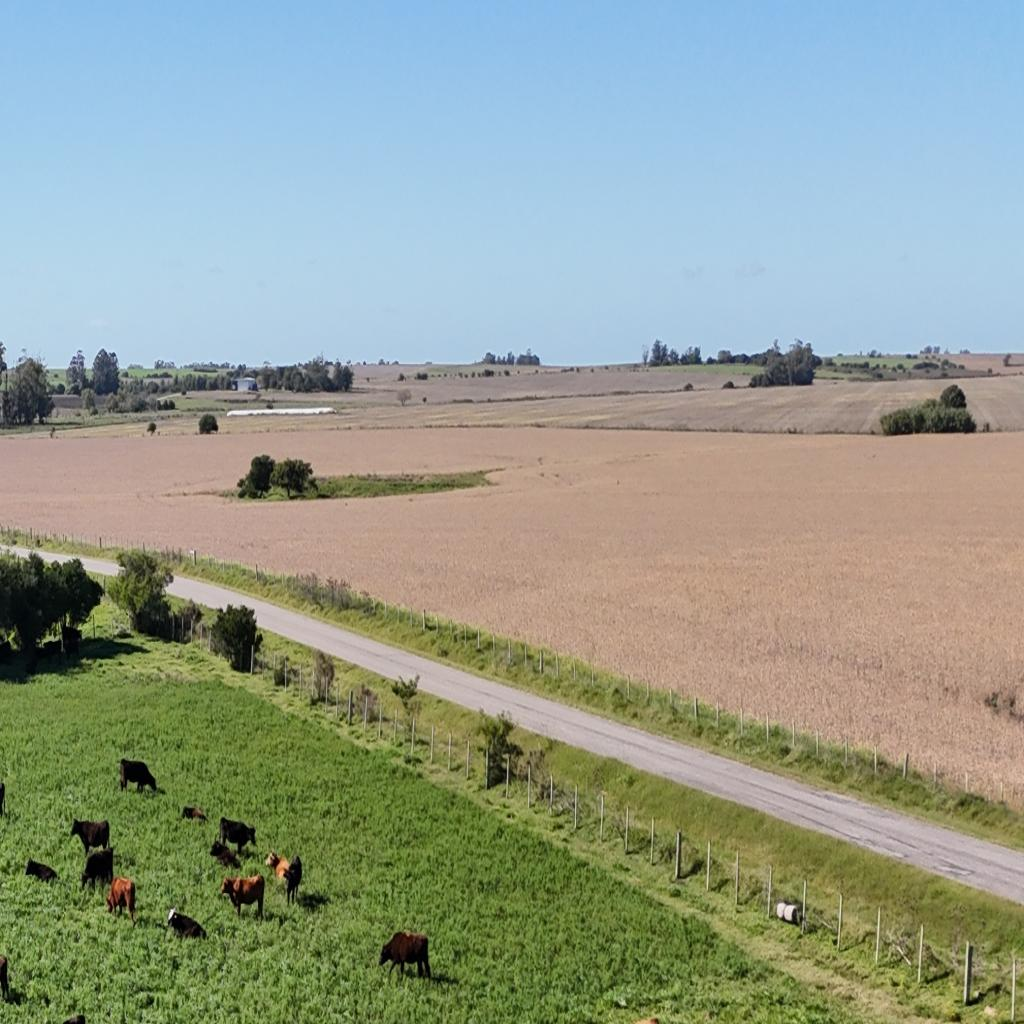cow: (378, 931, 432, 982), (220, 874, 265, 919), (70, 817, 110, 856), (80, 848, 114, 892), (105, 877, 136, 925), (219, 817, 257, 855), (119, 758, 157, 794), (166, 906, 206, 940), (284, 850, 305, 905), (25, 859, 59, 886), (264, 850, 288, 884), (209, 844, 239, 870), (180, 804, 208, 822), (218, 817, 232, 846)
